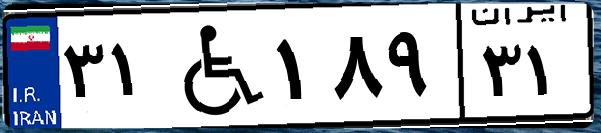1: (270, 28, 330, 110), (525, 38, 570, 115), (110, 28, 158, 98)
3: (57, 26, 110, 100), (475, 38, 525, 113)
8: (330, 28, 385, 110)
9: (385, 28, 445, 110)
ژ (معلولین و جانبازان): (158, 12, 270, 120)
